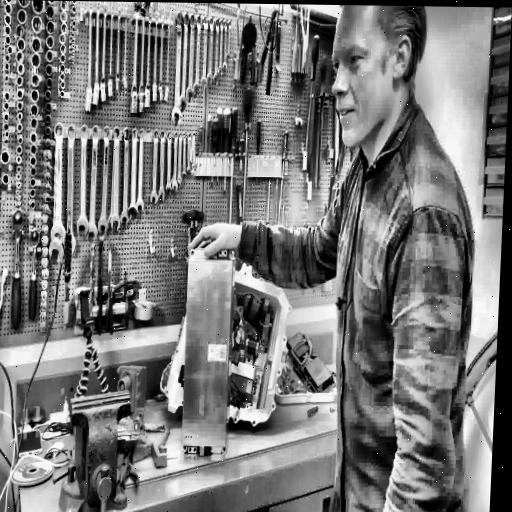battery_module: (182, 259, 233, 449)
